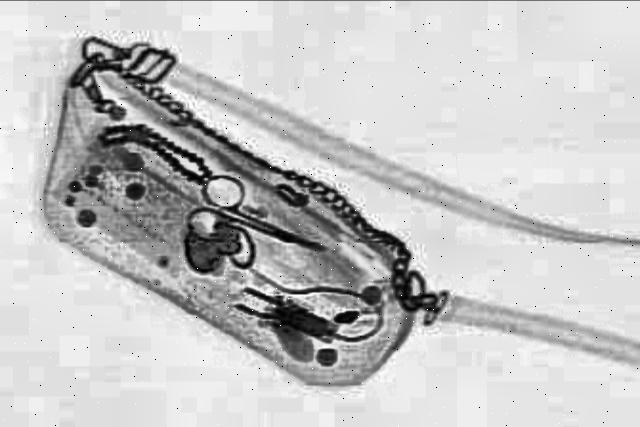Scissors: (165, 168, 352, 272)
